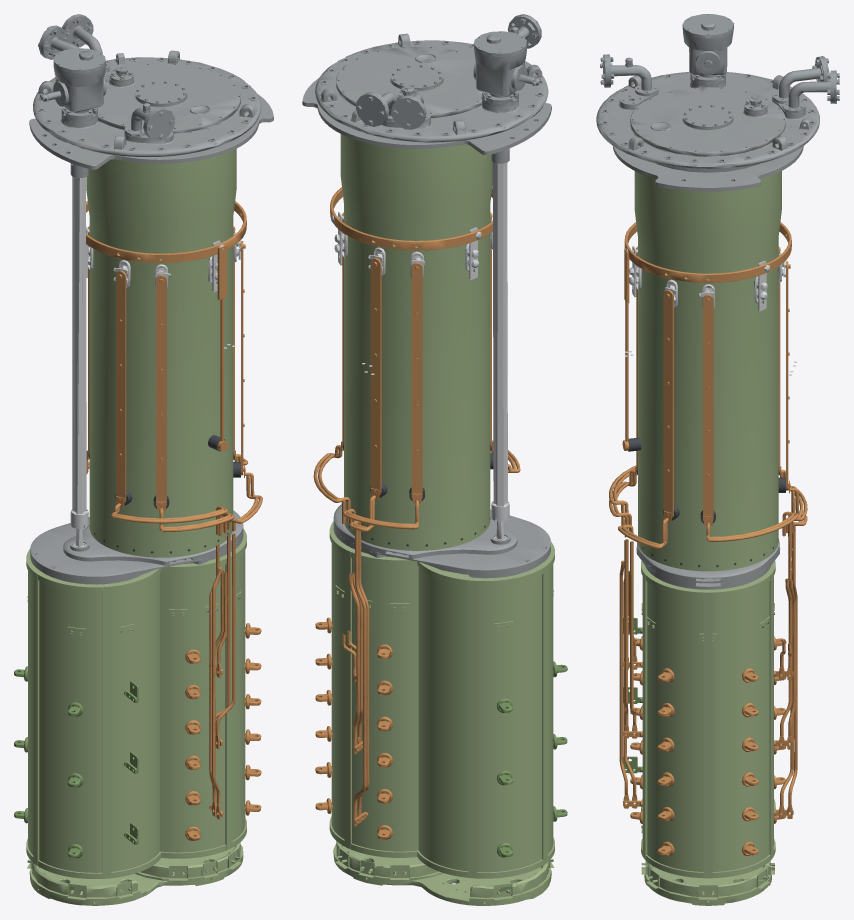
The model's file is chvt.glb.
The picture shows the model from 3 angles, left to right: view 1: azimuth 30°, elevation 25°; view 2: azimuth 150°, elevation 25°; view 3: azimuth 270°, elevation 25°; orthographic projection. The views are drawn at different scales.
Visible parts, largest first — view 1: sel-frame#2, comp, head, cover, chvt-bars, sel-frame, mid-box, sel-leads, ext-shaft, ugear, flange, sel-fixed (+8 smaller); view 2: sel-frame#2, comp, head, cover, chvt-bars, sel-frame, mid-box, ext-shaft, sel-leads, ugear, flange, sel-fixed (+7 smaller); view 3: comp, sel-frame#2, cover, head, sel-leads, chvt-bars, sel-frame, flange, sel-fixed, ugear, sel-moving, mid-box (+7 smaller).
Boxes of the visible parts, x1,y1,x2,y2 form: sel-frame#2: (26,529,246,878); comp: (86,149,236,557); head: (33,50,261,156); cover: (97,63,240,133); chvt-bars: (87,226,245,507); sel-frame: (27,591,243,905); mid-box: (30,510,243,584); sel-leads: (86,450,262,777); ext-shaft: (70,176,88,547); ugear: (40,48,106,178); flange: (29,94,273,169); sel-fixed: (185,623,261,840); sel-frame#2: (329,521,554,878); comp: (340,134,492,550); head: (315,33,548,142); cover: (336,46,481,117); chvt-bars: (342,212,492,499); sel-frame: (333,585,554,905); mid-box: (333,504,551,578); ext-shaft: (491,162,509,540); sel-leads: (313,440,520,785); ugear: (473,31,540,163); flange: (302,78,551,155); sel-fixed: (315,617,392,839); comp: (634,171,781,571); sel-frame#2: (641,560,775,878); cover: (630,87,785,156); head: (596,72,819,172); sel-leads: (609,465,807,769); chvt-bars: (636,246,790,521); sel-frame: (641,603,774,905); flange: (613,146,803,191); sel-fixed: (630,636,786,856); ugear: (682,14,734,86); sel-moving: (619,629,797,818); mid-box: (636,538,780,589).
Bounding box in the file's own units: 0.8586 × 3.04 × 0.827.
